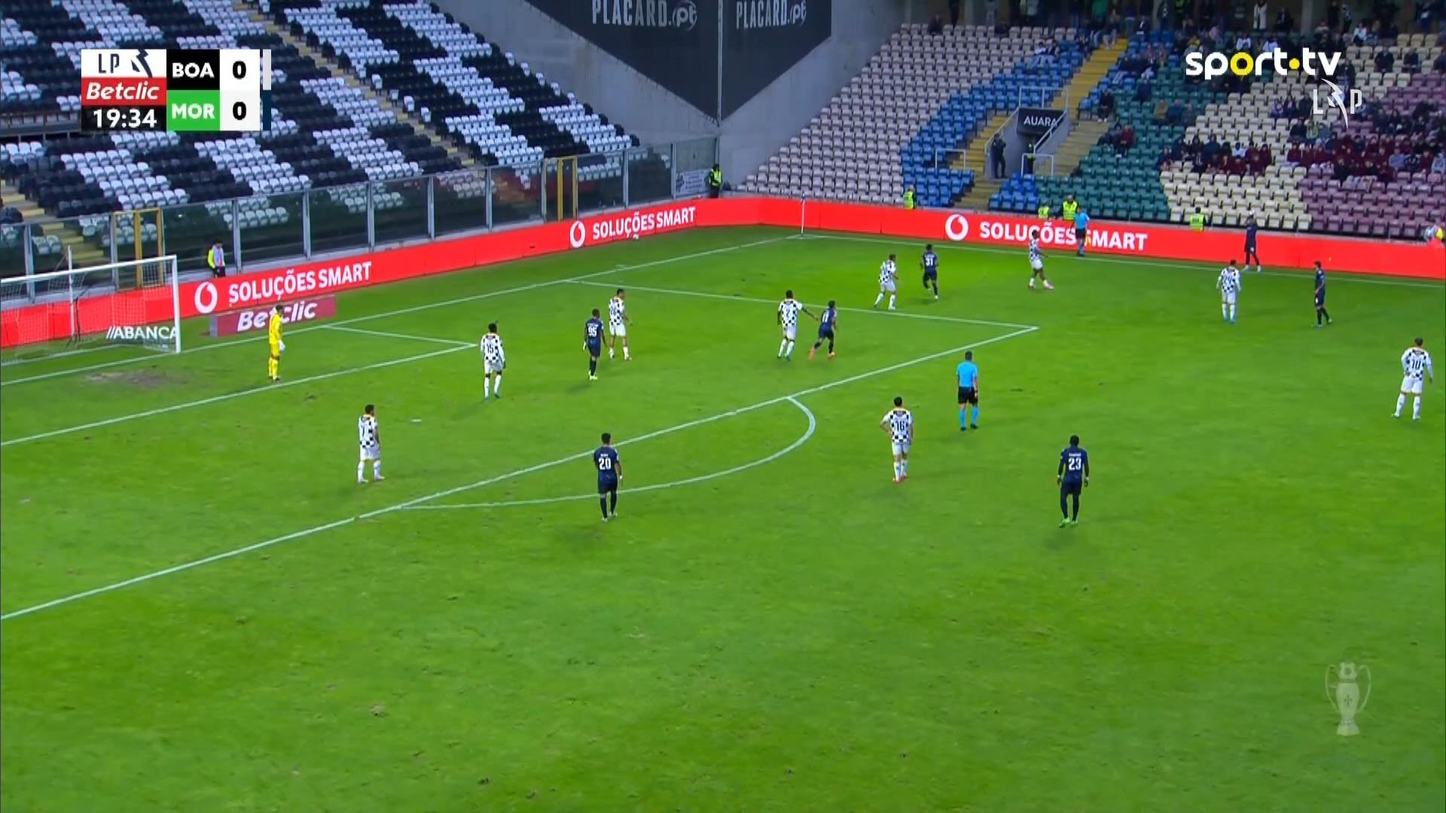goalkeeper: (265, 303, 285, 381)
player: (1390, 336, 1433, 420), (1055, 434, 1090, 527), (879, 395, 914, 483), (592, 431, 623, 522), (355, 403, 384, 483), (479, 321, 506, 399), (775, 289, 802, 361), (606, 287, 632, 361), (808, 299, 838, 359), (582, 308, 606, 380), (1026, 228, 1053, 289), (1216, 258, 1241, 322), (872, 252, 899, 310), (1311, 259, 1332, 327), (1241, 212, 1261, 272), (920, 242, 940, 300)
referee: (954, 349, 980, 430), (1071, 206, 1089, 256)
